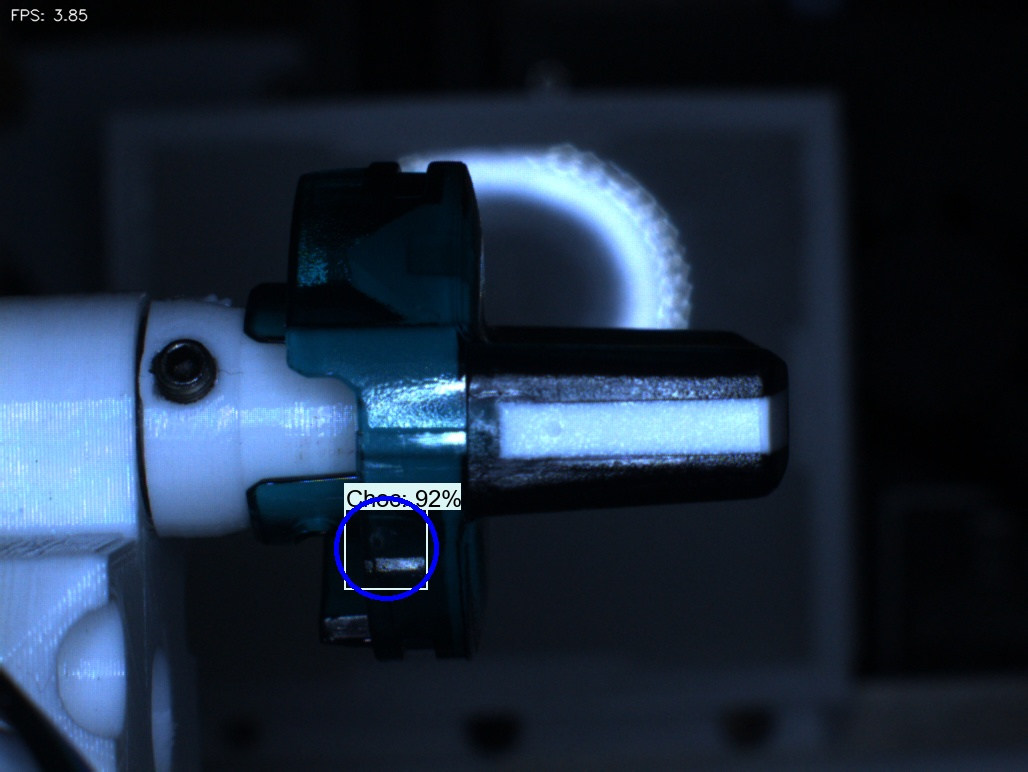DentOk: (321, 215, 392, 318)
